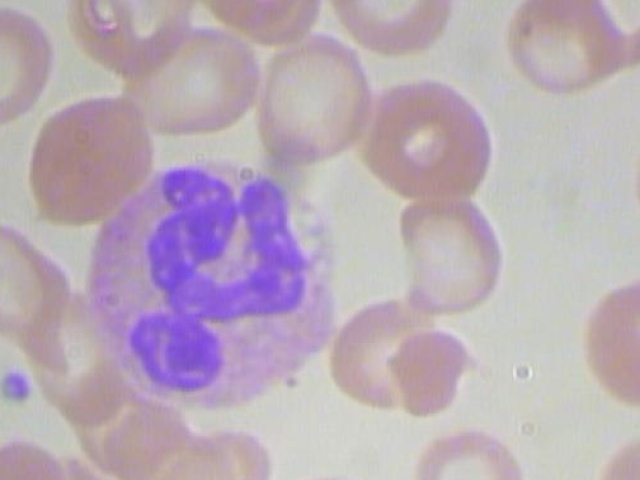Platelets: (0, 365, 37, 404)
RBC: (19, 90, 167, 227), (352, 69, 500, 205), (118, 24, 270, 148), (251, 29, 378, 163), (397, 178, 515, 316), (324, 280, 441, 418), (499, 0, 632, 107), (388, 325, 478, 424), (402, 418, 536, 480), (0, 0, 61, 129), (329, 0, 458, 58), (0, 440, 77, 480), (595, 418, 640, 480), (272, 460, 398, 480), (627, 108, 640, 244)
WBC: (79, 153, 340, 410)
